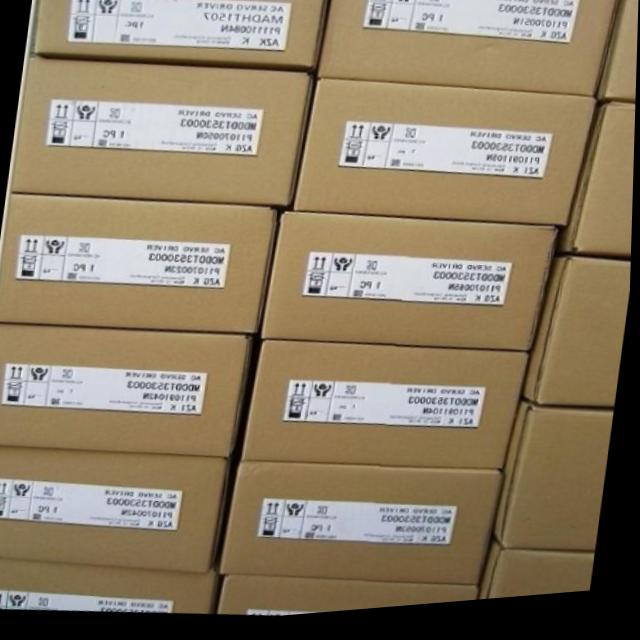box: (293, 82, 596, 236), (12, 62, 314, 210), (261, 215, 561, 361), (0, 195, 283, 341), (242, 344, 532, 478), (224, 466, 505, 595), (0, 324, 260, 462), (319, 0, 620, 109), (0, 447, 239, 573), (35, 0, 329, 76), (495, 409, 616, 559), (526, 266, 633, 415), (557, 110, 636, 271), (0, 559, 219, 616), (222, 580, 483, 620), (481, 549, 598, 608), (593, 0, 639, 114)
